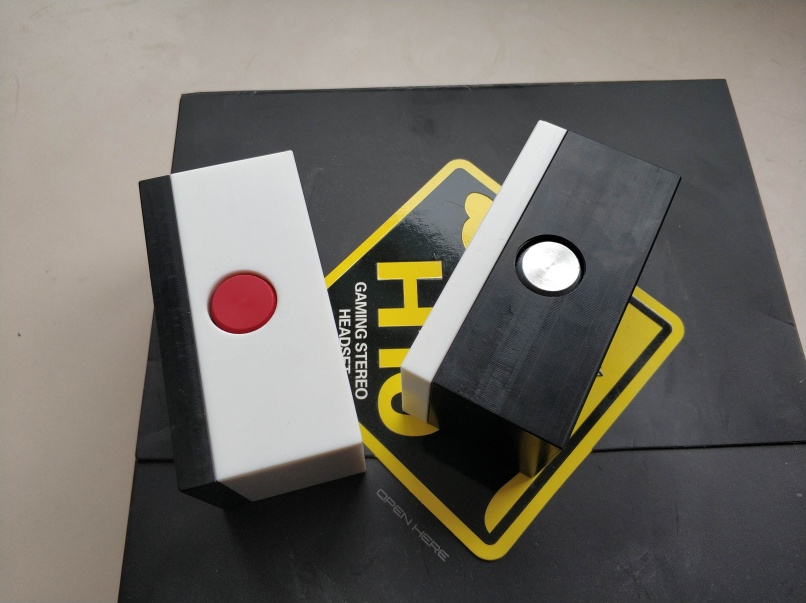black+white+red: (133, 147, 372, 515)
white+black+silver: (398, 117, 682, 478)
